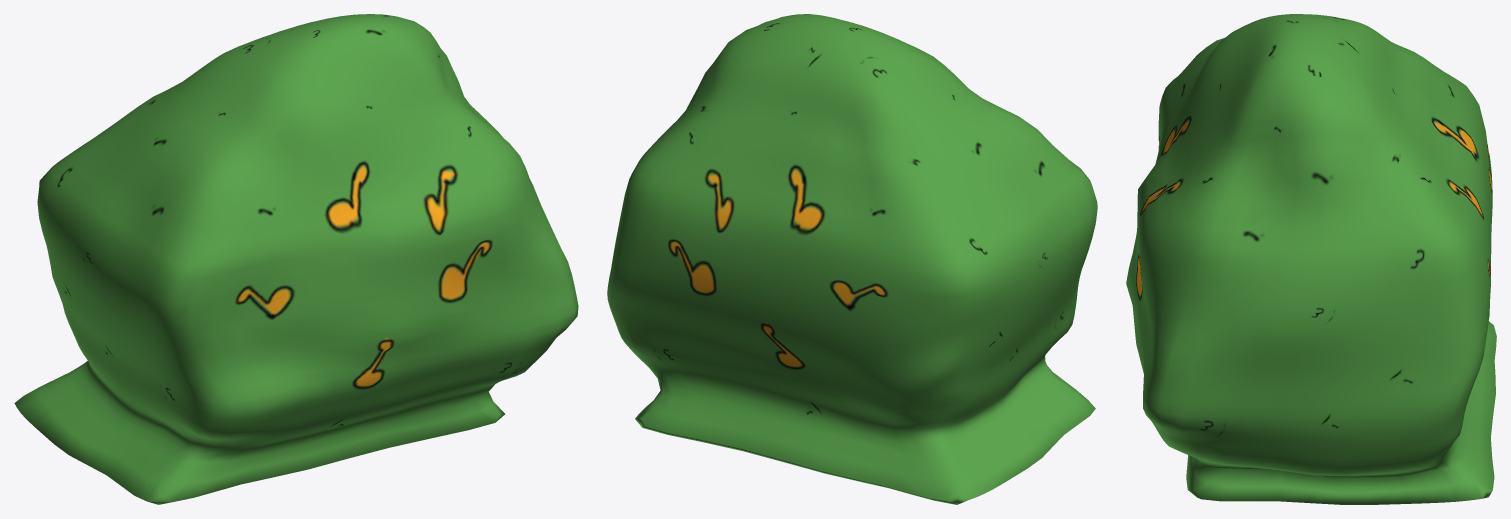
File: cespuglio_v2.0.fbx
3 views of the same model, side by side, from view 1: azimuth 30°, elevation 25°; view 2: azimuth 150°, elevation 25°; view 3: azimuth 270°, elevation 25° (orthographic). The views are drawn at different scales.
Visible parts, largest first — view 1: cespuglio; view 2: cespuglio; view 3: cespuglio.
Part boxes in pixels (x1=…): cespuglio: x1=14, y1=14, x2=578, y2=504; cespuglio: x1=607, y1=14, x2=1097, y2=504; cespuglio: x1=1126, y1=14, x2=1496, y2=504.
Size of the model in its own units: 47.21 by 41.52 by 33.96.
